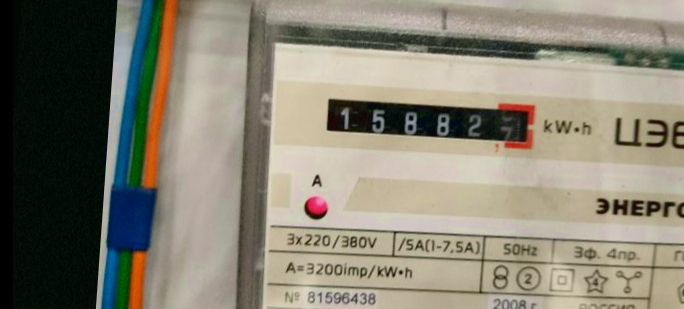1: (339, 100, 354, 130)
2: (466, 110, 485, 137)
5: (370, 104, 389, 136)
7: (499, 121, 513, 139)
8: (402, 107, 420, 136), (435, 108, 453, 137)
screen: (314, 80, 544, 156)
